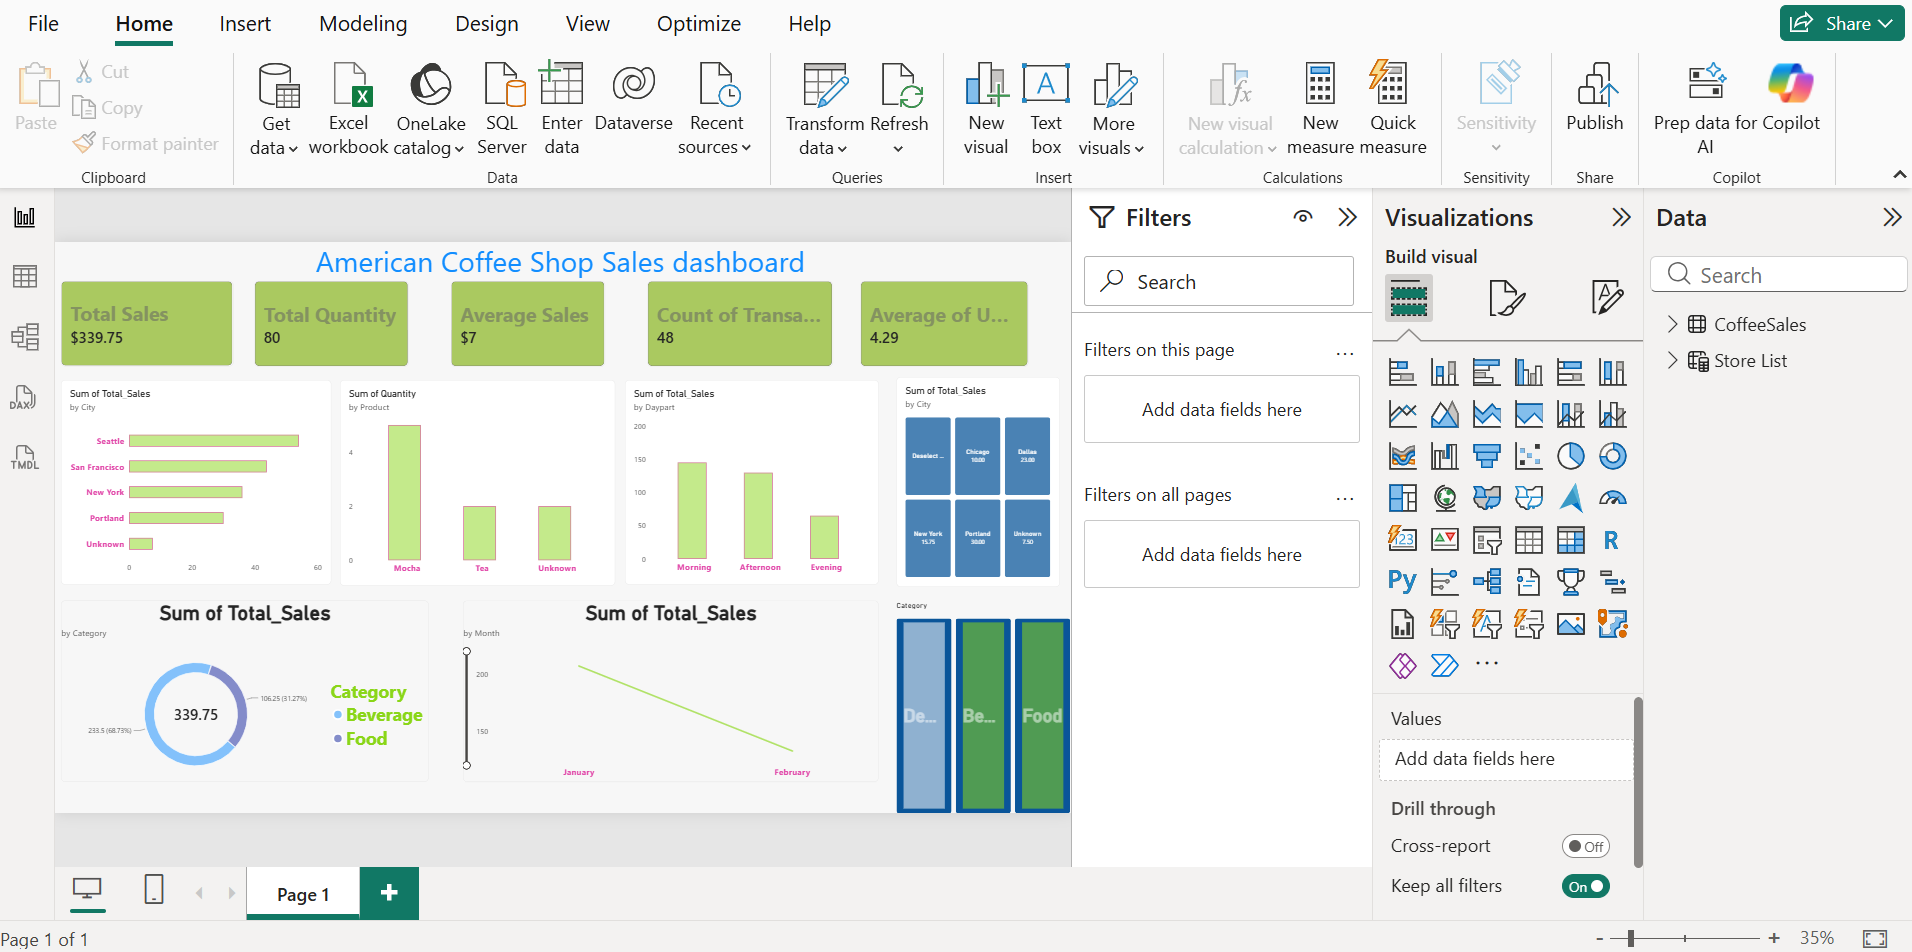

The page's visual inventory and layout, read from the dashboard file:
{"tool":"powerbi","page":{"name":"Page 1","canvas":[1920,1080],"ordinal":0},"visuals":[{"type":"textbox","box":[11.3,0,1887.9,99.2],"z":0},{"type":"cardVisual","fields":{"Data":["CoffeeSales.Total Sales"]},"box":[11.3,73.7,326,161.6],"z":1000},{"type":"cardVisual","fields":{"Data":["CoffeeSales.Total Quantity"]},"box":[377,74,291.1,162.2],"z":2000},{"type":"cardVisual","fields":{"Data":["CoffeeSales.Average Sales"]},"box":[749.2,74,291.1,162.2],"z":3000},{"type":"cardVisual","fields":{"Data":["CountNonNull(CoffeeSales.Transaction_ID)"]},"box":[1119,74,350.7,162.2],"z":4000},{"type":"cardVisual","fields":{"Data":["Avg(CoffeeSales.Unit_Price)"]},"box":[1522.2,74,317.3,162.2],"z":5000},{"type":"clusteredBarChart","fields":{"Category":["CoffeeSales.City"],"Y":["Sum(CoffeeSales.Total_Sales)"]},"box":[11.9,260.1,510.6,386.5],"z":6000},{"type":"columnChart","fields":{"Category":["CoffeeSales.Product"],"Y":["Sum(CoffeeSales.Quantity)"]},"box":[539.2,260.1,520.1,388.9],"z":7000},{"type":"columnChart","fields":{"Category":["CoffeeSales.Daypart"],"Y":["Sum(CoffeeSales.Total_Sales)"]},"box":[1078.4,260.1,479.6,386.5],"z":8000},{"type":"donutChart","fields":{"Category":["CoffeeSales.Category"],"Y":["Sum(CoffeeSales.Total_Sales)"]},"box":[11.3,677.5,694.5,343],"z":8001},{"type":"lineChart","fields":{"Category":["CoffeeSales.Transaction_Date.Variation.Date Hierarchy.Month"],"Y":["Sum(CoffeeSales.Total_Sales)"]},"box":[771,677.5,785.2,343],"z":8002},{"type":"advancedSlicerVisual","fields":{"Label":["Sum(CoffeeSales.Total_Sales)"],"Values":["CoffeeSales.City"]},"box":[1590.2,255.1,309,396.9],"z":8003},{"type":"advancedSlicerVisual","fields":{"Values":["CoffeeSales.Category"]},"box":[1590.2,677.5,328.8,402.5],"z":8004}]}

Visuals, with their boxes on the page's 1920x1080 design canvas (x1, y1, x2, y2). These are canvas units, not pixel positions in the 1912x952 screenshot, which may show the page scaled, cropped or inside an application window:
textbox: crop(11, 0, 1899, 99)
cardVisual - CoffeeSales.Total Sales: crop(11, 74, 337, 235)
cardVisual - CoffeeSales.Total Quantity: crop(377, 74, 668, 236)
cardVisual - CoffeeSales.Average Sales: crop(749, 74, 1040, 236)
cardVisual - CountNonNull(CoffeeSales.Transaction_ID): crop(1119, 74, 1470, 236)
cardVisual - Avg(CoffeeSales.Unit_Price): crop(1522, 74, 1840, 236)
clusteredBarChart - CoffeeSales.City x Sum(CoffeeSales.Total_Sales): crop(12, 260, 522, 647)
columnChart - CoffeeSales.Product x Sum(CoffeeSales.Quantity): crop(539, 260, 1059, 649)
columnChart - CoffeeSales.Daypart x Sum(CoffeeSales.Total_Sales): crop(1078, 260, 1558, 647)
donutChart - CoffeeSales.Category x Sum(CoffeeSales.Total_Sales): crop(11, 678, 706, 1020)
lineChart - CoffeeSales.Transaction_Date.Variation.Date Hierarchy.Month x Sum(CoffeeSales.Total_Sales): crop(771, 678, 1556, 1020)
advancedSlicerVisual - Sum(CoffeeSales.Total_Sales) x CoffeeSales.City: crop(1590, 255, 1899, 652)
advancedSlicerVisual - CoffeeSales.Category: crop(1590, 678, 1919, 1080)
